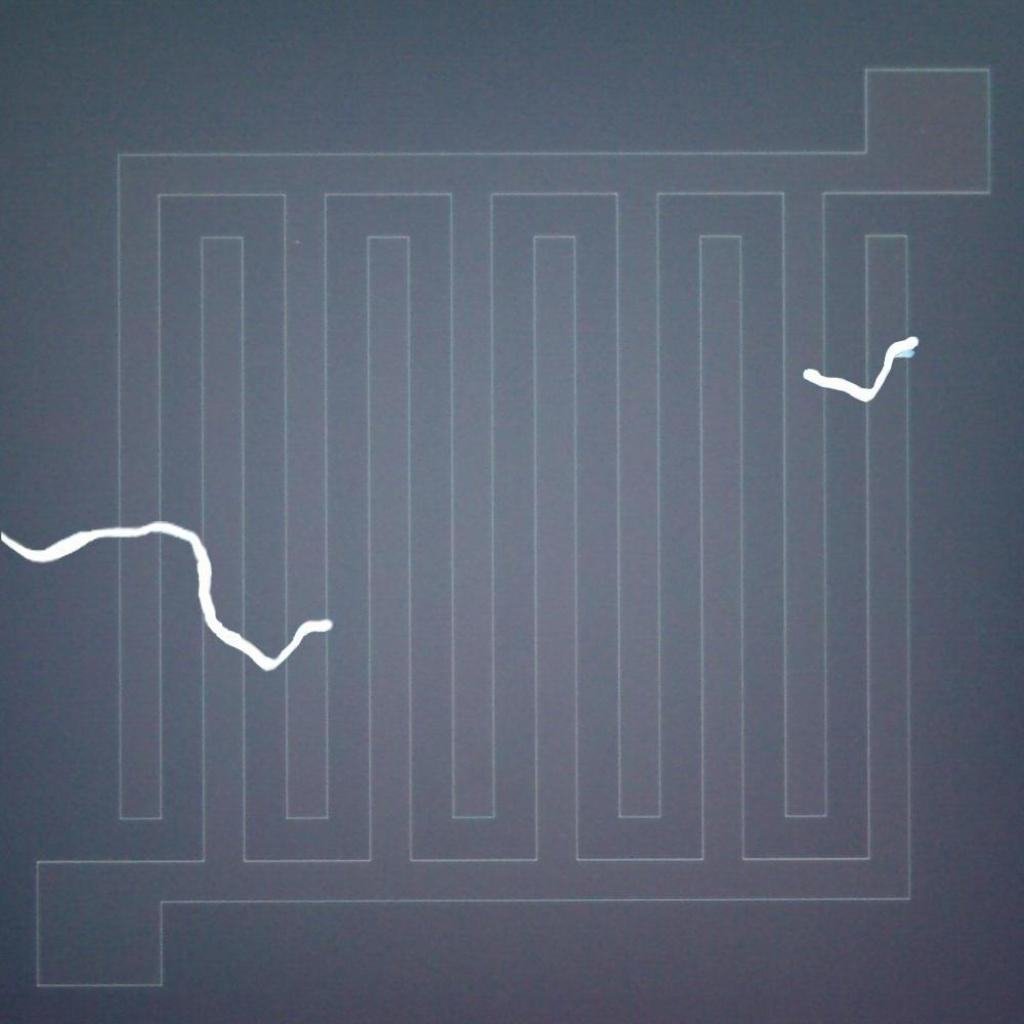line: (0, 512, 340, 679), (798, 324, 926, 410)
